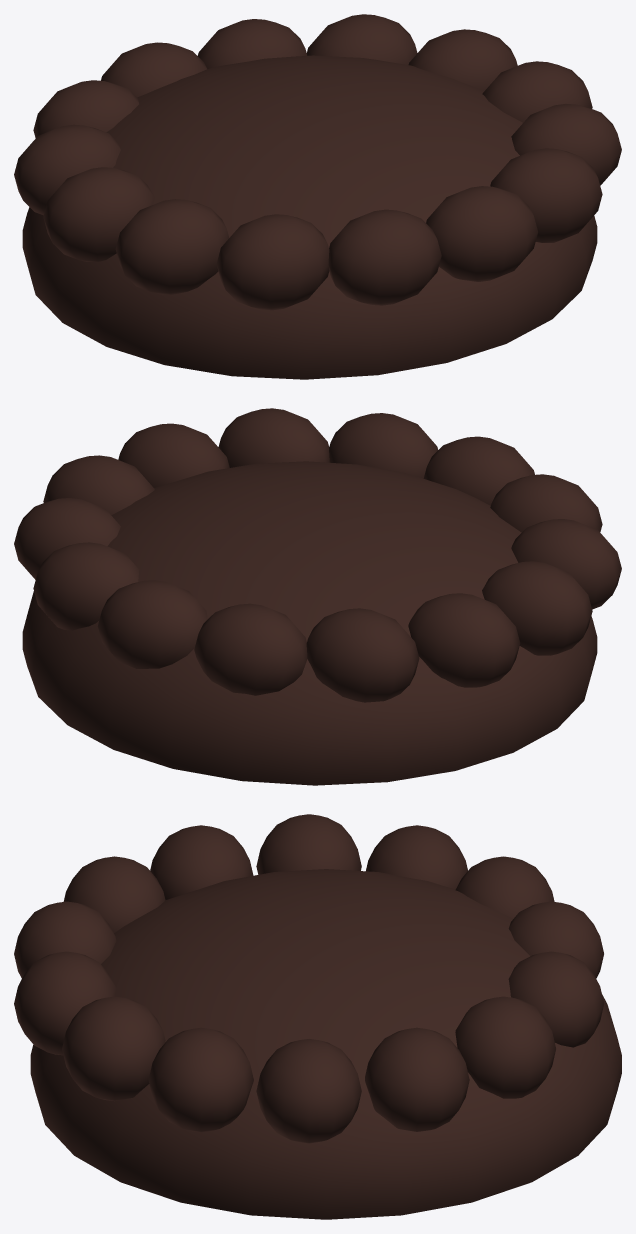
Rendered from braided-crown.glb.
The picture shows the model from 3 angles, top to bottom: view 1: azimuth 30°, elevation 25°; view 2: azimuth 150°, elevation 25°; view 3: azimuth 270°, elevation 25°; orthographic projection. The views are drawn at different scales.
Visible parts, largest first — view 1: hair.braided-crown.hair; view 2: hair.braided-crown.hair; view 3: hair.braided-crown.hair.
Part boxes in pixels (x1,y1,x2,y2): hair.braided-crown.hair: [14, 14, 621, 379]; hair.braided-crown.hair: [14, 408, 621, 785]; hair.braided-crown.hair: [14, 814, 621, 1219].
Size of the model in its own units: 0.77 by 0.2224 by 0.7092.
